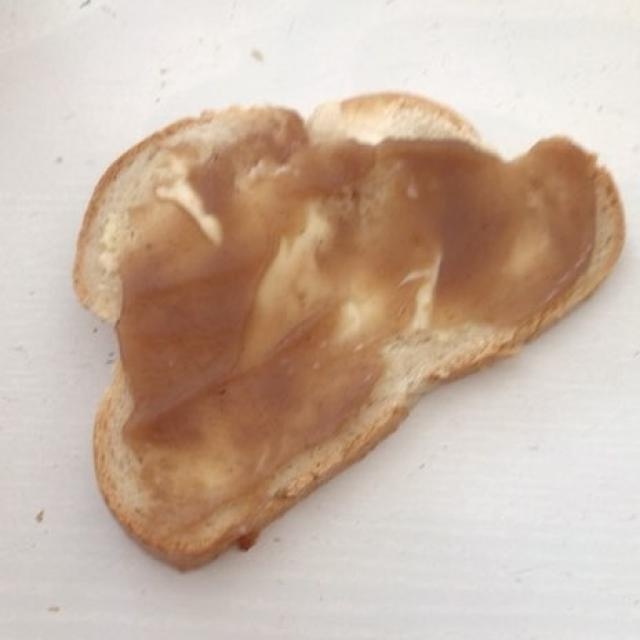bread: (83, 101, 617, 557)
jam: (111, 123, 601, 542)
